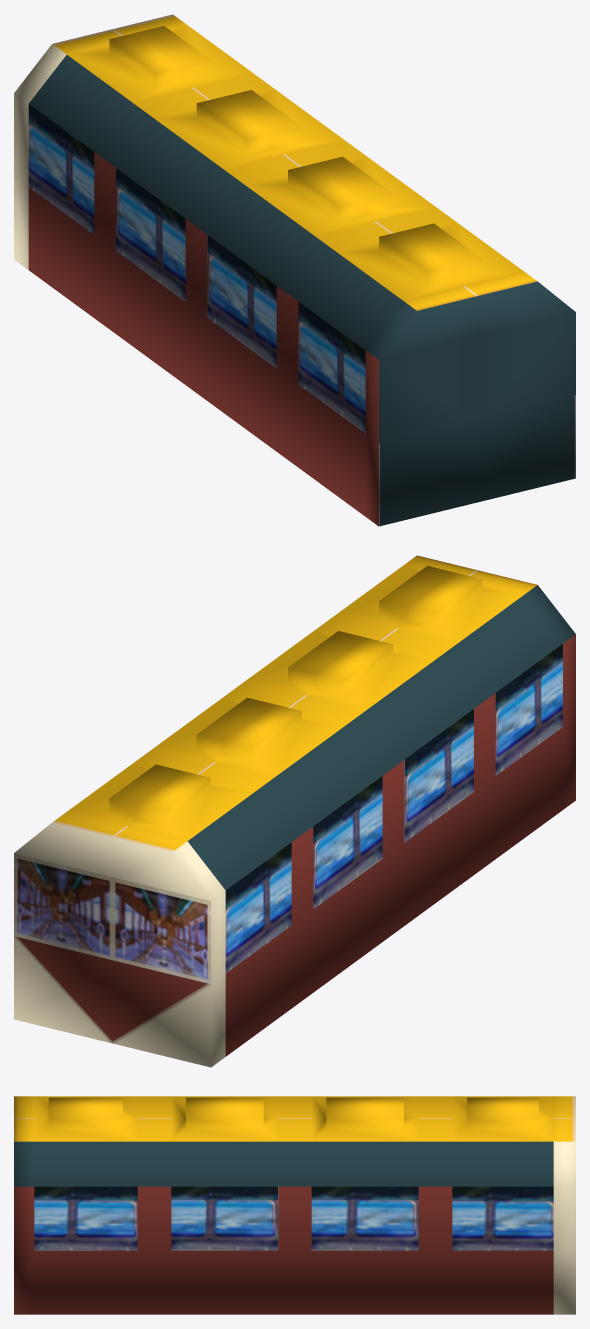
Rendered from train.fbx.
3 renders of one model, top to bottom at view 1: azimuth 30°, elevation 25°; view 2: azimuth 150°, elevation 25°; view 3: azimuth 270°, elevation 25°, orthographic. The views are drawn at different scales.
Parts seen in each view (by area): view 1: Train; view 2: Train; view 3: Train.
Part boxes in pixels (x1,y1,x2,y2): Train: (14,14,575,526); Train: (14,555,575,1067); Train: (14,1096,575,1314).
Size of the model in its own units: 200 by 214 by 641.
Materials: 1 (1 with a texture image).
